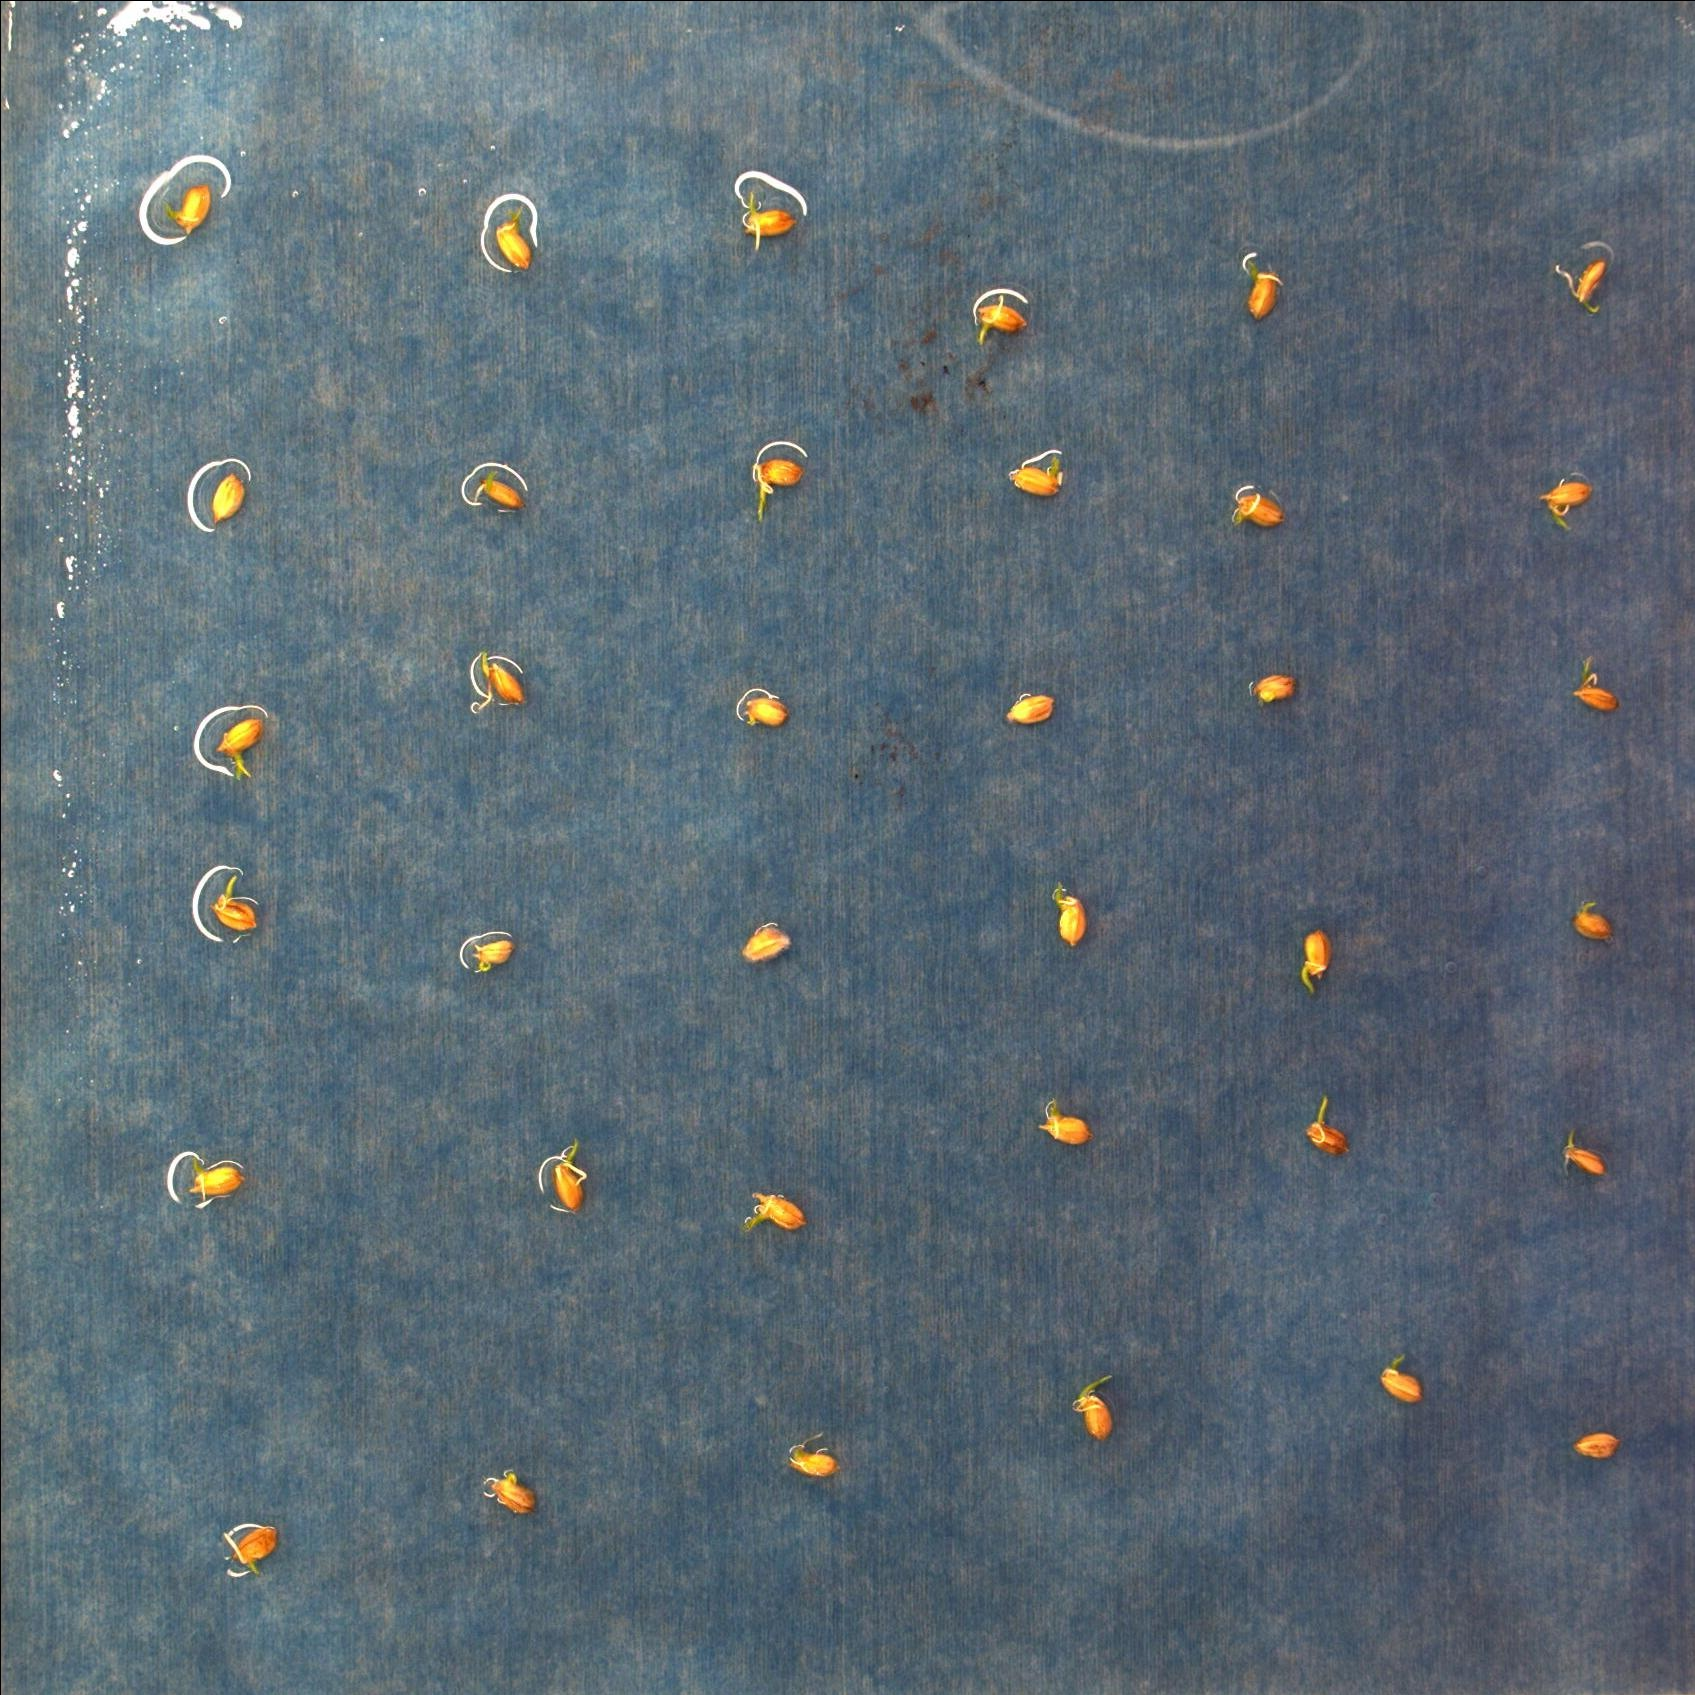not sprout: (730, 186, 810, 251), (998, 441, 1073, 509), (964, 281, 1037, 349), (1551, 244, 1614, 318), (469, 646, 529, 723), (220, 1523, 287, 1589), (540, 1130, 591, 1214), (1049, 875, 1101, 958), (172, 1163, 258, 1211), (459, 461, 528, 518), (484, 196, 532, 276), (1035, 1093, 1097, 1153), (1375, 1349, 1437, 1409), (1569, 657, 1627, 720), (1535, 466, 1599, 523), (206, 463, 261, 529), (1298, 917, 1340, 1001), (1231, 477, 1288, 536), (1555, 1122, 1614, 1178), (166, 175, 216, 241), (1239, 262, 1291, 321), (480, 1465, 546, 1512), (785, 1434, 851, 1481), (1004, 678, 1060, 733), (737, 916, 795, 969), (1245, 669, 1315, 709), (742, 688, 796, 736), (463, 934, 518, 973), (1569, 894, 1613, 941), (1568, 1426, 1627, 1461)
sprout: (742, 439, 820, 532), (206, 869, 275, 948), (1063, 1371, 1132, 1444), (217, 714, 282, 787), (733, 1183, 809, 1240), (1305, 1094, 1357, 1159)
